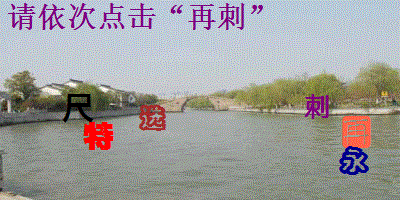text: (341, 114, 373, 150), (82, 121, 116, 153), (63, 92, 95, 124), (339, 145, 370, 176), (137, 104, 168, 133), (303, 93, 332, 121)
